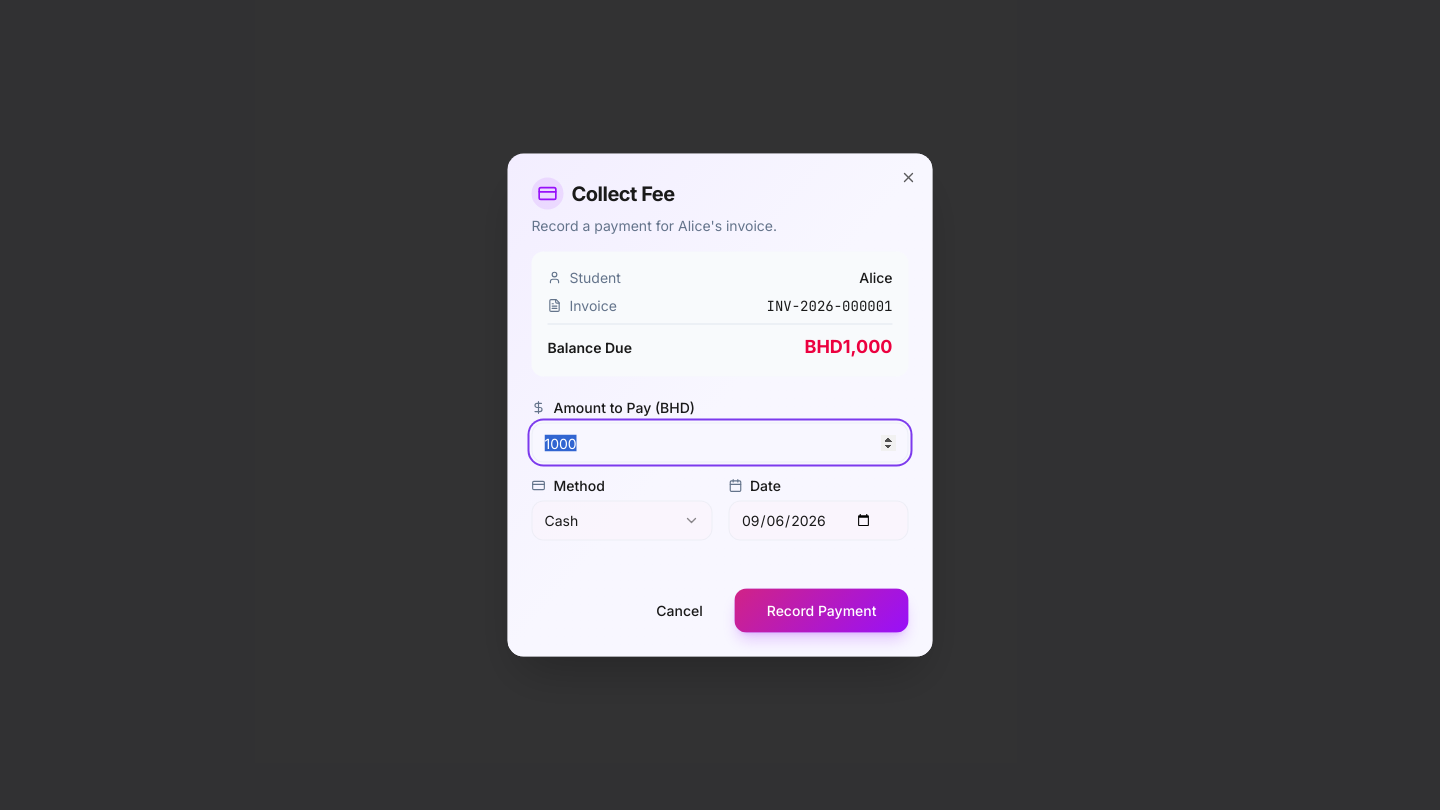
CollectFeeDialog › shows a validation error when the amount is not a positive number
Replace the text in the number field labelled "Amount to Pay (BHD)" with "0": [720, 442] box top-left (532, 422), bottom-right (908, 462)
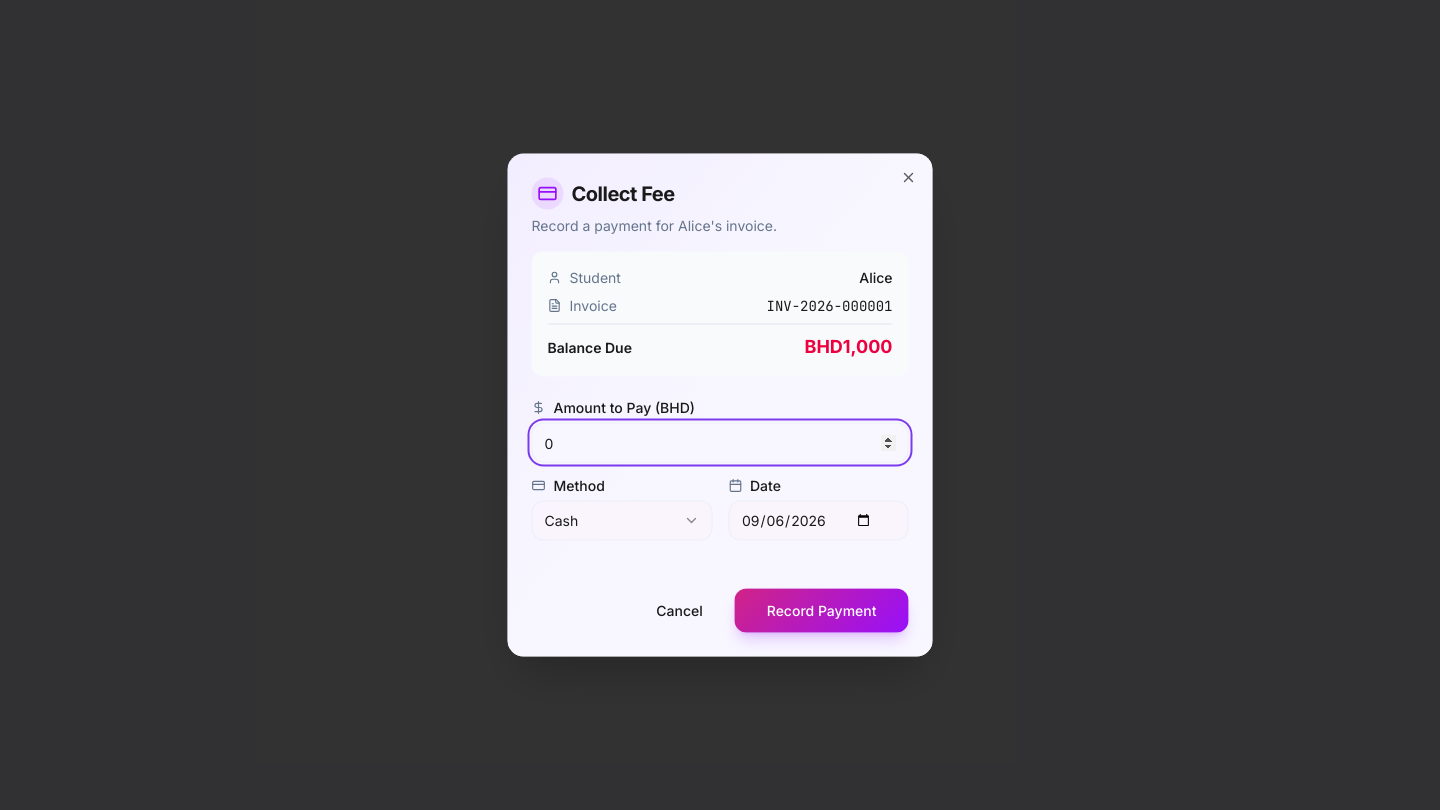
Click the button "Record Payment": [822, 610] box top-left (735, 588), bottom-right (908, 632)
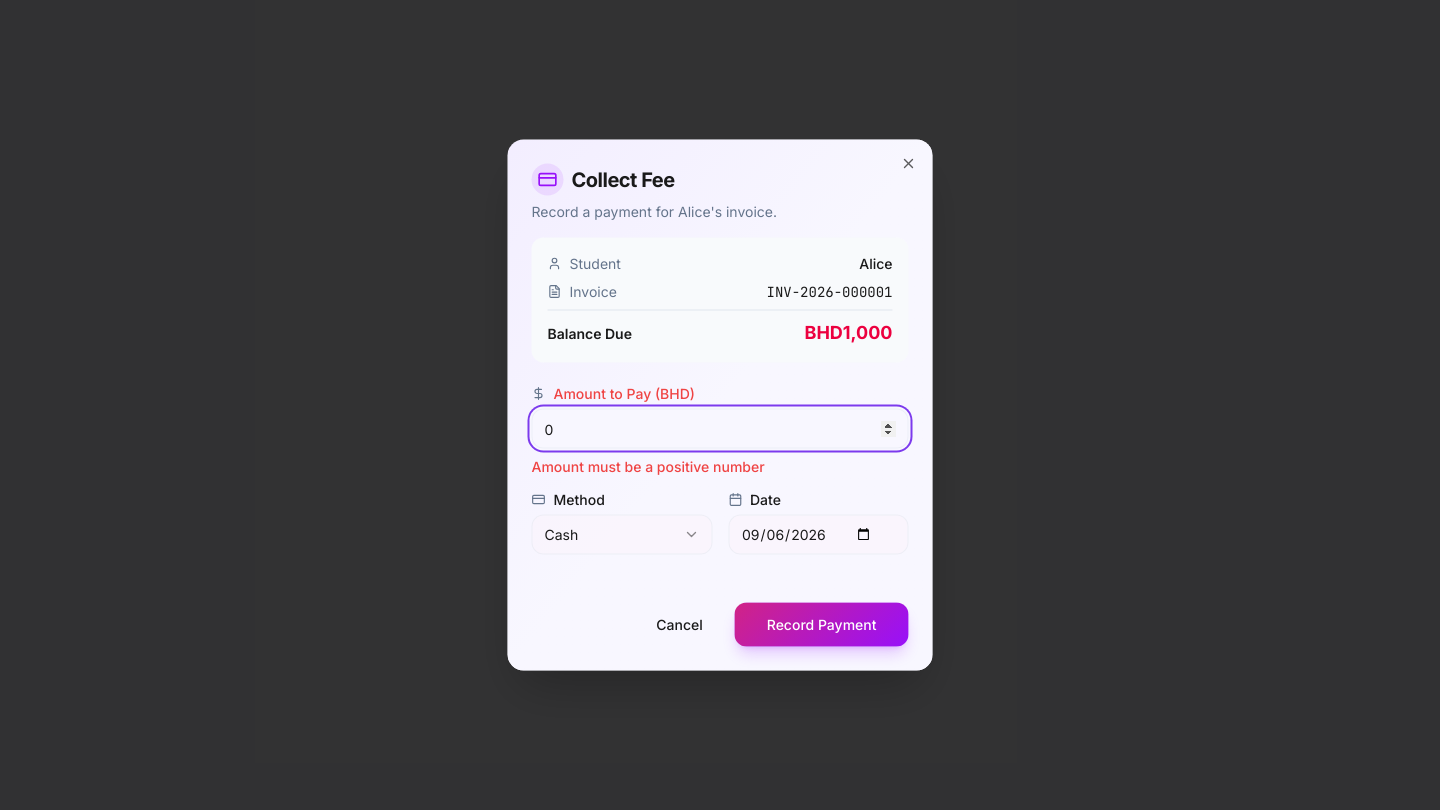
Expected: the text "Amount must be a positive number" is shown, top-left (532, 458), bottom-right (765, 474)
